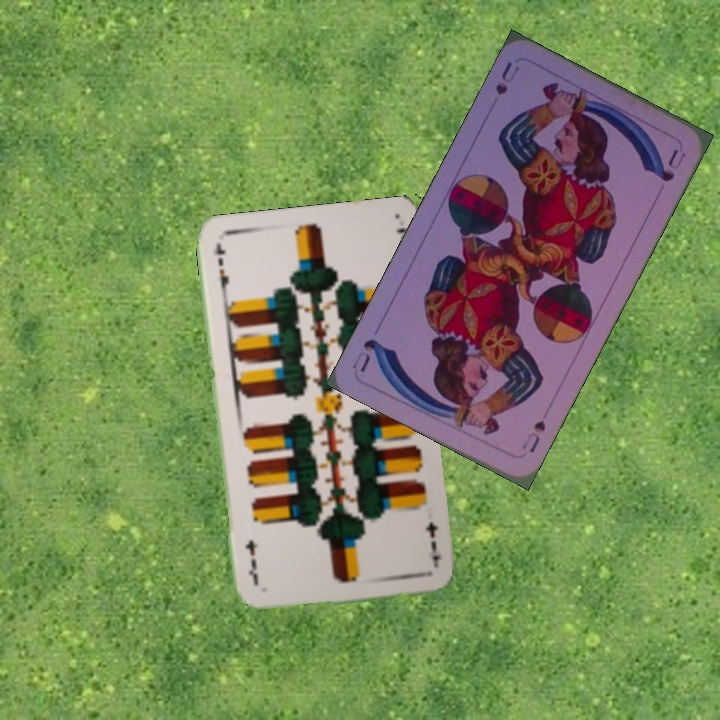E7: (211, 240, 232, 299), (422, 517, 444, 568)
SU: (491, 57, 523, 98), (517, 416, 549, 456)
